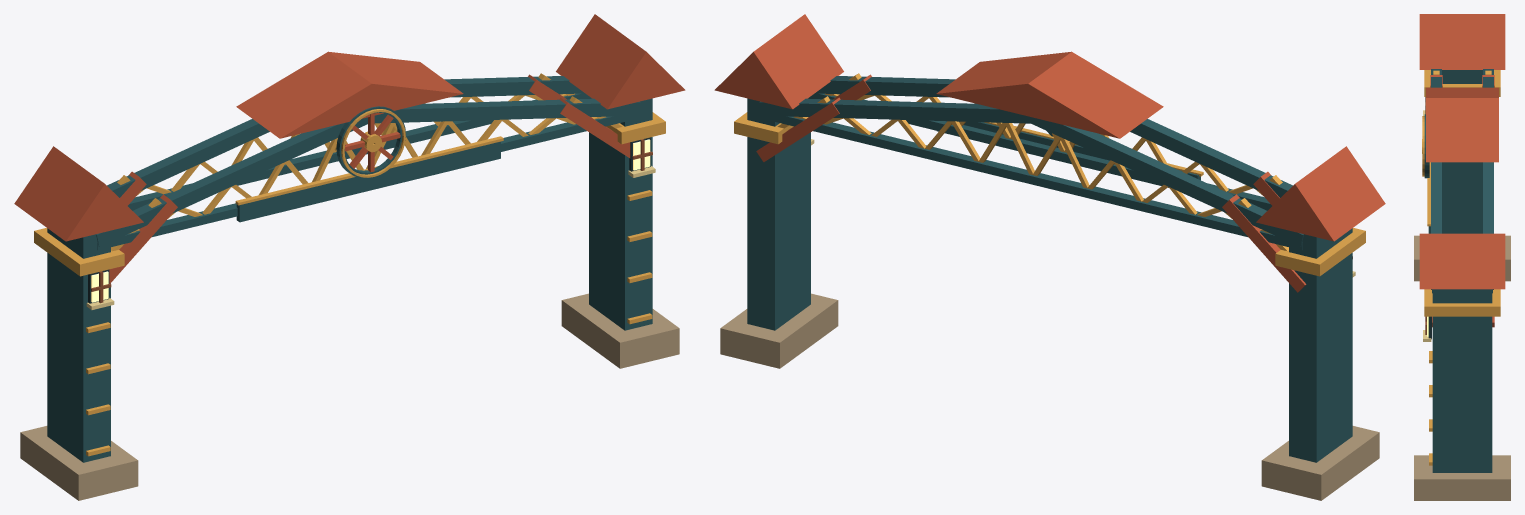
File: station.glb
The picture shows the model from 3 angles, left to right: view 1: azimuth 30°, elevation 25°; view 2: azimuth 150°, elevation 25°; view 3: azimuth 270°, elevation 25°; orthographic projection. The views are drawn at different scales.
Parts seen in each view (by area): view 1: LOD0; view 2: LOD0; view 3: LOD0.
Part boxes in pixels (x1,y1,x2,y2): LOD0: [14, 14, 685, 500]; LOD0: [714, 14, 1385, 500]; LOD0: [1414, 14, 1510, 500].
Size of what is drawn, in the model's own units: 22.9 by 11.95 by 3.73.
